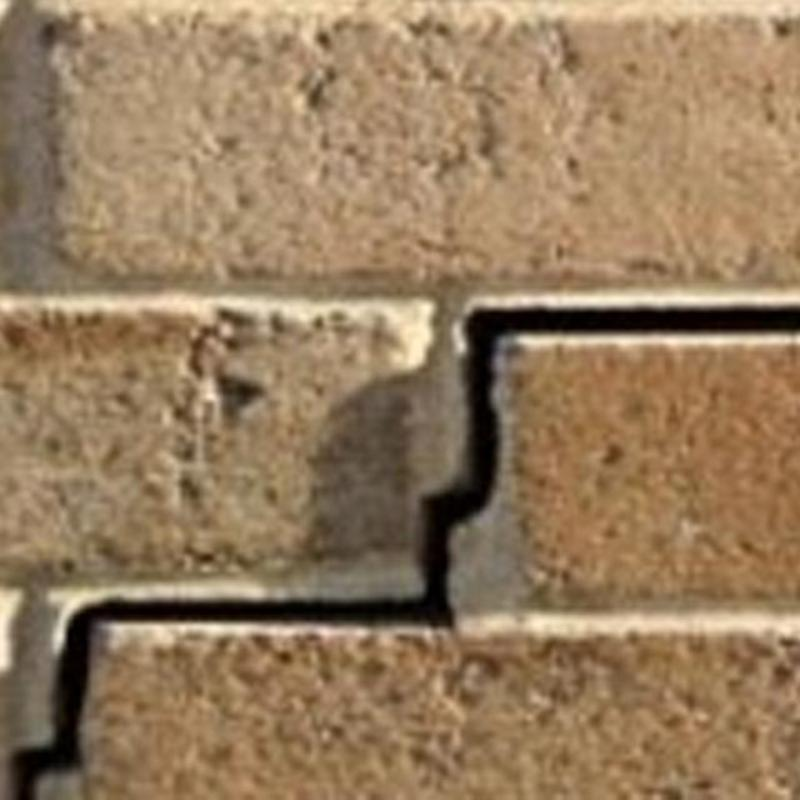crack: (14, 307, 800, 799)
